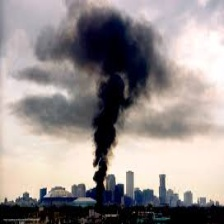smoke: (68, 8, 157, 178)
